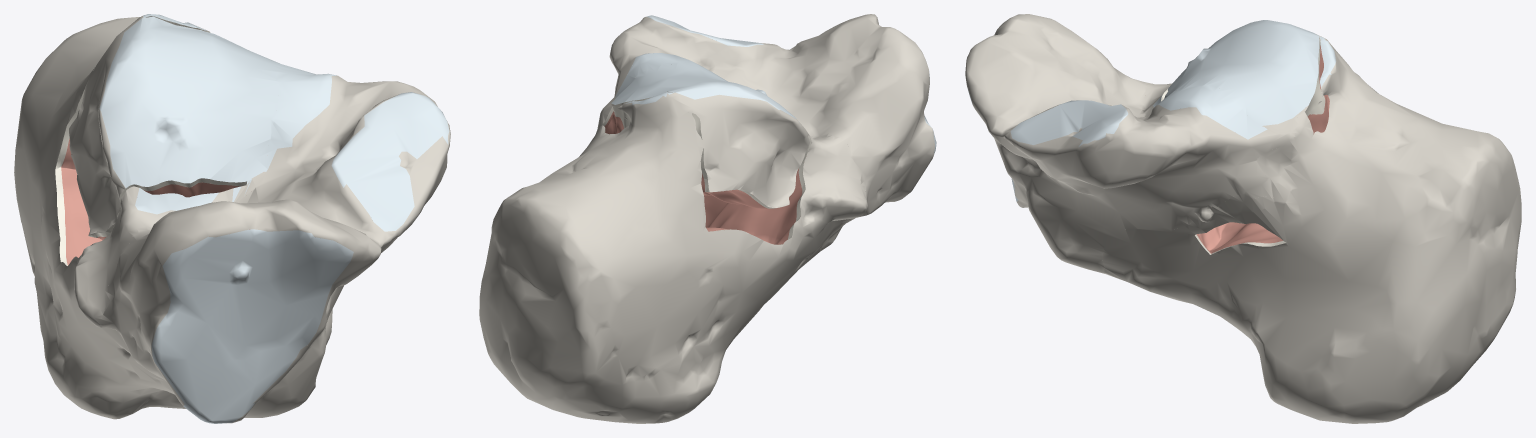
Rendered from EL-JD_young.glb.
The picture shows the model from 3 angles, left to right: view 1: azimuth 30°, elevation 25°; view 2: azimuth 150°, elevation 25°; view 3: azimuth 270°, elevation 25°; orthographic projection. The views are drawn at different scales.
Parts seen in each view (by area): view 1: calcaneus: sustentacular fragment, calcaneus: tuberosity (lateral wall pushed out), calcaneus: depressed joint fragment (outer two-thirds of the; view 2: calcaneus: tuberosity (lateral wall pushed out), calcaneus: sustentacular fragment, calcaneus: depressed joint fragment (outer two-thirds of the; view 3: calcaneus: tuberosity (lateral wall pushed out), calcaneus: sustentacular fragment, calcaneus: depressed joint fragment (outer two-thirds of the.
Boxes of the visible parts, box(x1,y1,x2,y2) form: calcaneus: sustentacular fragment: box(100, 66, 450, 423); calcaneus: tuberosity (lateral wall pushed out): box(14, 14, 332, 419); calcaneus: depressed joint fragment (outer two-thirds of the: box(69, 16, 287, 239); calcaneus: tuberosity (lateral wall pushed out): box(479, 92, 867, 423); calcaneus: sustentacular fragment: box(600, 14, 936, 251); calcaneus: depressed joint fragment (outer two-thirds of the: box(600, 63, 810, 208); calcaneus: tuberosity (lateral wall pushed out): box(1102, 36, 1521, 423); calcaneus: sustentacular fragment: box(965, 14, 1293, 273); calcaneus: depressed joint fragment (outer two-thirds of the: box(1164, 20, 1329, 213).
Size of the model in its own units: 0.0475 by 0.0513 by 0.0757.
